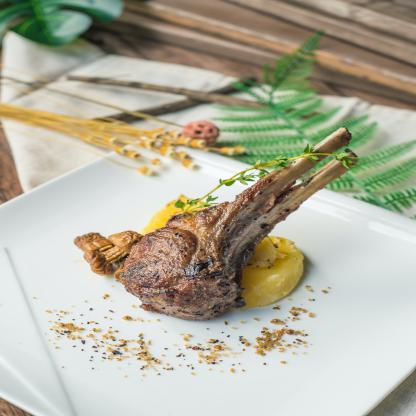Carne: (109, 204, 251, 313)
